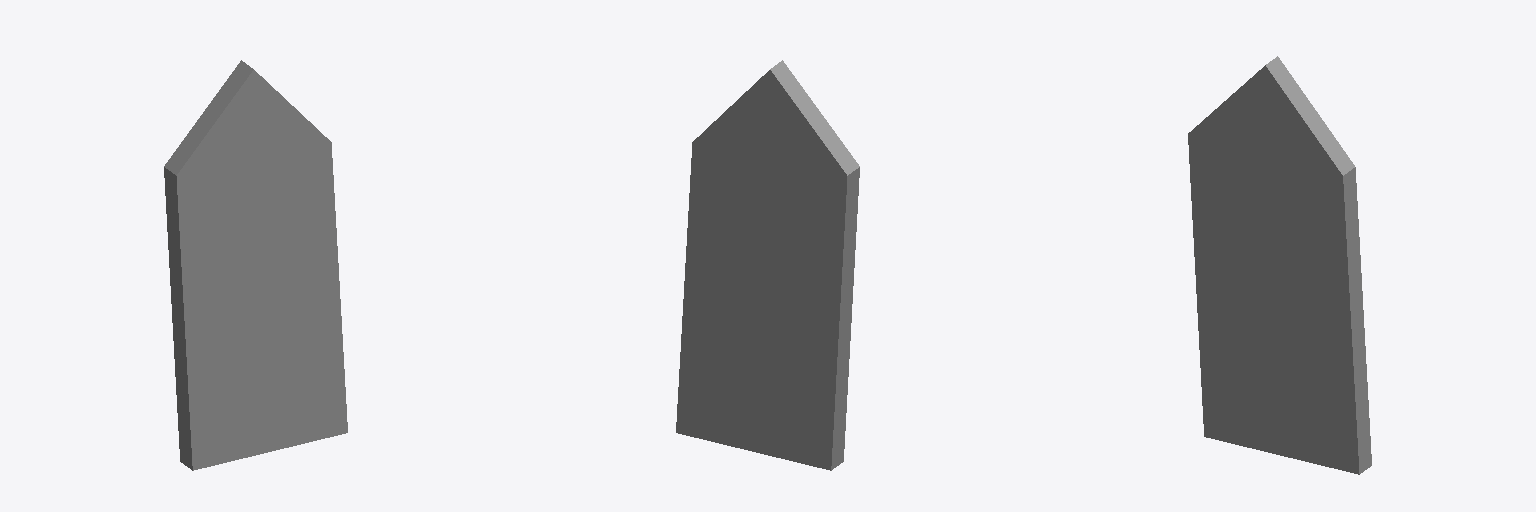
File: arrow.obj
The picture shows the model from 3 angles: view 1: azimuth 30°, elevation 25°; view 2: azimuth 150°, elevation 25°; view 3: azimuth 330°, elevation 25°; orthographic projection.
Visible parts, largest first — view 1: Plane; view 2: Plane; view 3: Plane.
Boxes of the visible parts, box(x1,y1,x2,y2) form: Plane: box(164, 60, 347, 470); Plane: box(676, 60, 859, 470); Plane: box(1188, 56, 1371, 474).
Size of the model in its own units: 0.9293 by 2 by 0.118.